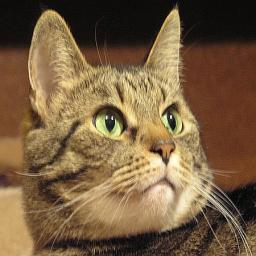catnose: (151, 142, 176, 164)
